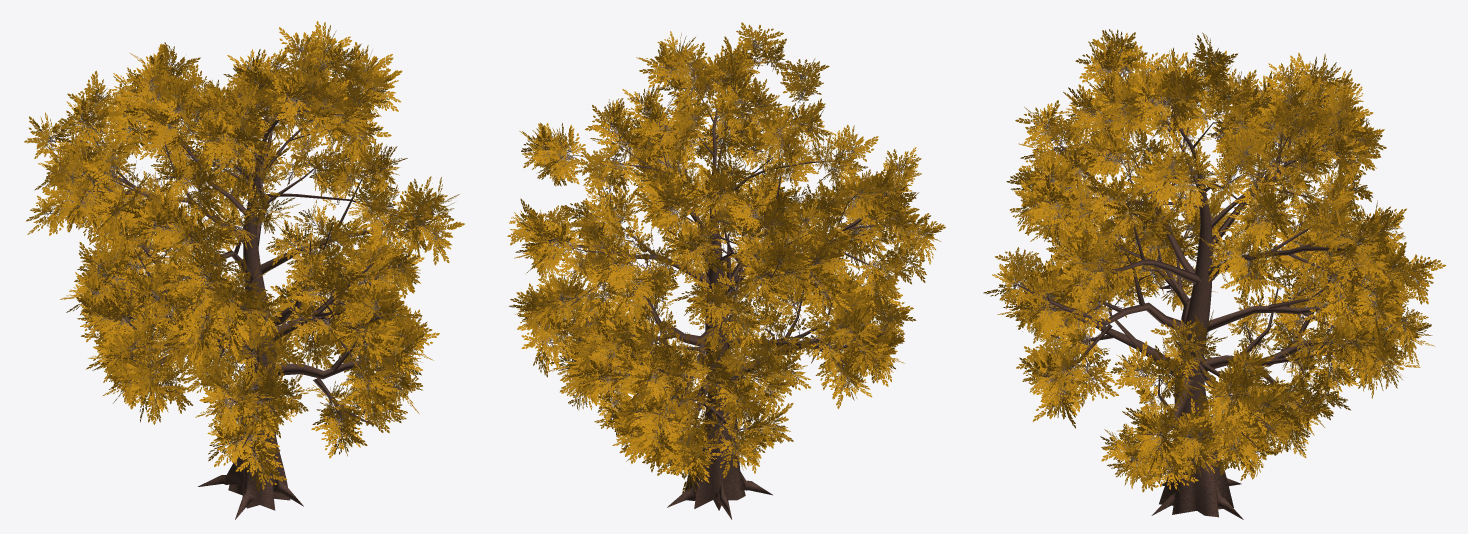
Rendered from birch-fall.gltf.
3 views of the same model, side by side, from view 1: azimuth 30°, elevation 25°; view 2: azimuth 150°, elevation 25°; view 3: azimuth 270°, elevation 25° (orthographic). The views are drawn at different scales.
Parts seen in each view (by area): view 1: Sweet birch Fall; view 2: Sweet birch Fall; view 3: Sweet birch Fall.
Boxes of the visible parts, x1,y1,x2,y2 form: Sweet birch Fall: [24, 21, 464, 519]; Sweet birch Fall: [507, 22, 945, 519]; Sweet birch Fall: [983, 29, 1446, 519].
Size of the model in its own units: 465 by 552 by 499.
Materials: 2 (2 with a texture image).
